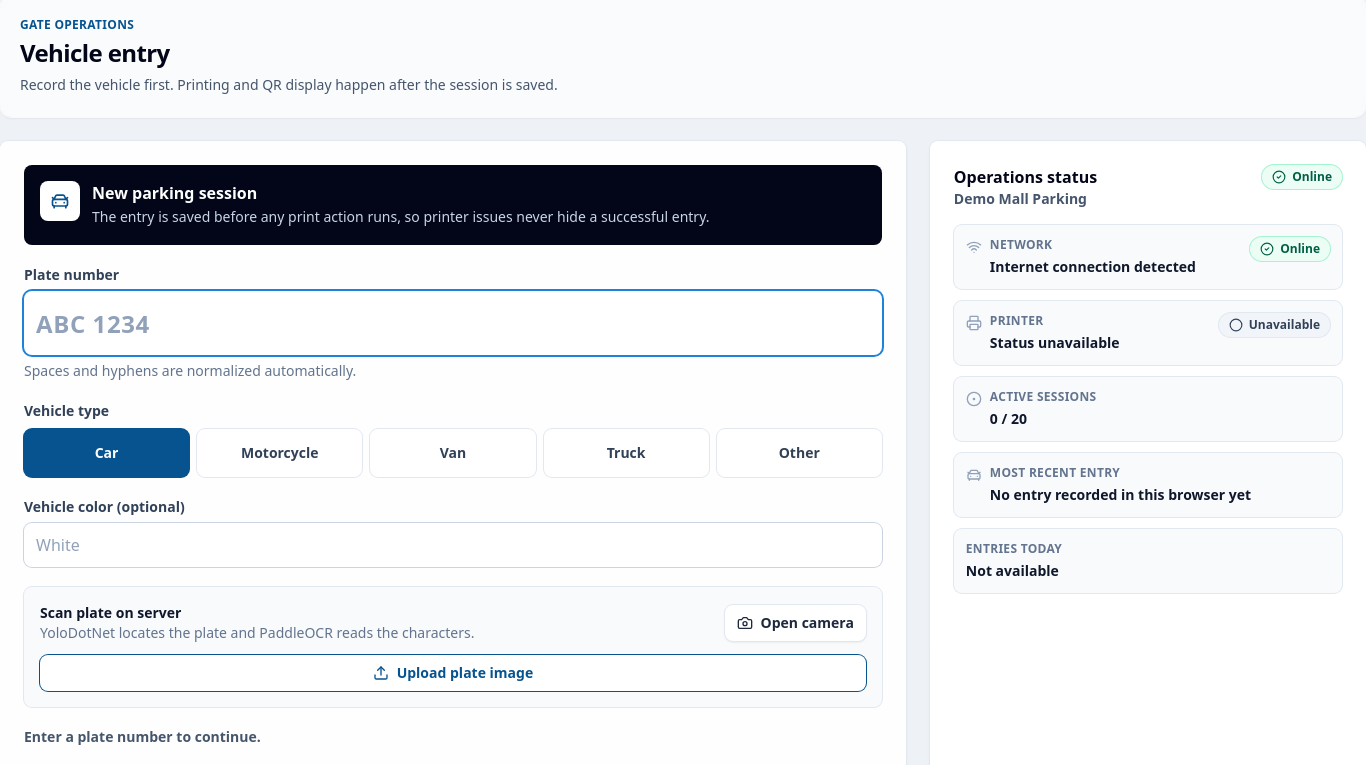
Test: GuardEntryPage › explains why Record Entry is disabled and enables it for a valid plate
The width and height of the screenshot is (1366, 765).
Expected: the text "Enter a plate number to continue." is shown, [24,727,261,746]
Type "abc-123" into the field labelled "Plate number".
click(453, 323); type("abc-123")  # box [24,291,882,355]
(page scrolled)
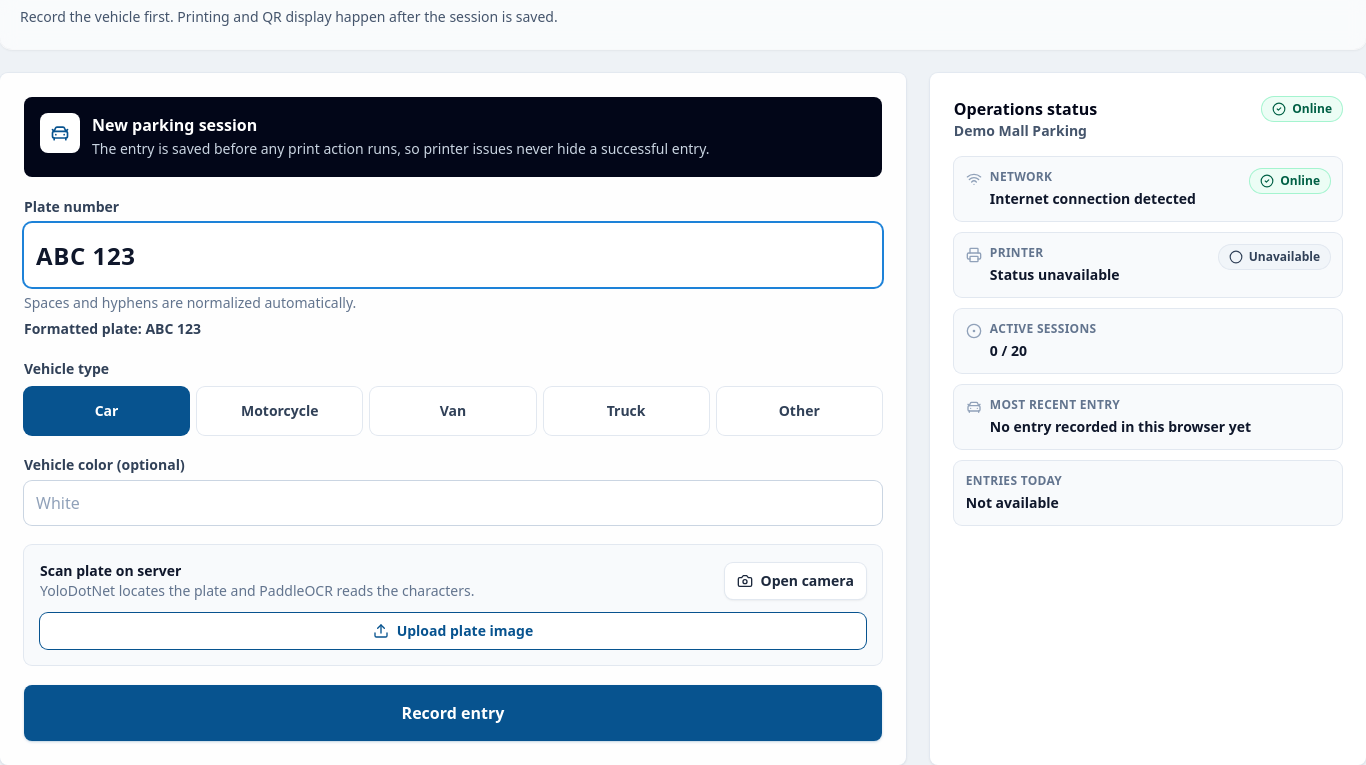
Expected: the button "Record entry" is enabled, [24,685,882,741]
Expected: the text "Enter a plate number to continue." is gone
